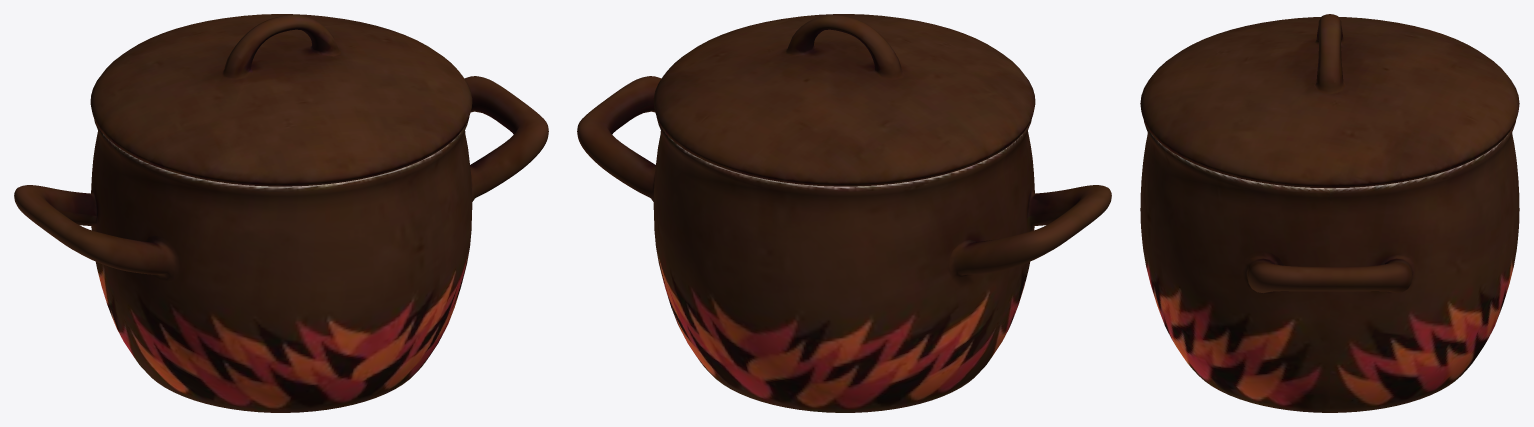
Rendered from pot_enamel_01.glb.
The picture shows the model from 3 angles, left to right: view 1: azimuth 30°, elevation 25°; view 2: azimuth 150°, elevation 25°; view 3: azimuth 270°, elevation 25°; orthographic projection.
Parts seen in each view (by area): view 1: pot_enamel_01_lid; view 2: pot_enamel_01_lid; view 3: pot_enamel_01_lid.
Part boxes in pixels (box(x1,y1,x2,y2)): pot_enamel_01_lid: box(14, 14, 548, 412); pot_enamel_01_lid: box(577, 14, 1111, 412); pot_enamel_01_lid: box(1140, 14, 1519, 412).
Bounding box in the file's own units: 0.2629 × 0.1782 × 0.1805.
Materials: 1 (1 with a texture image).
